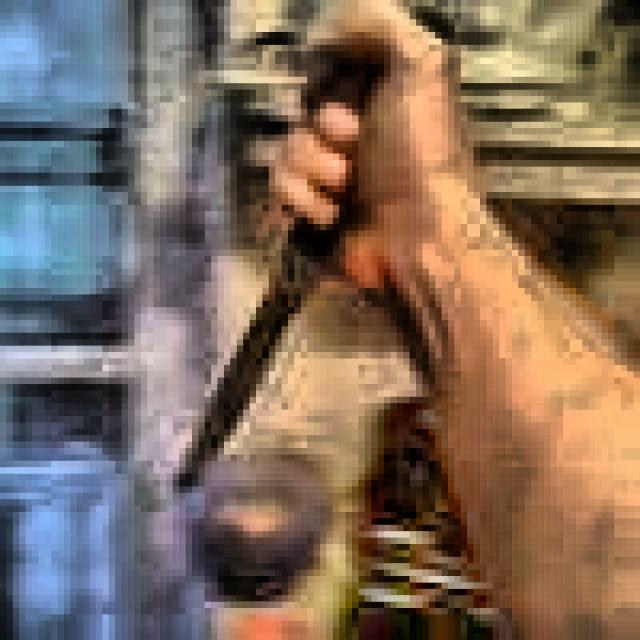knife: (181, 12, 453, 489)
